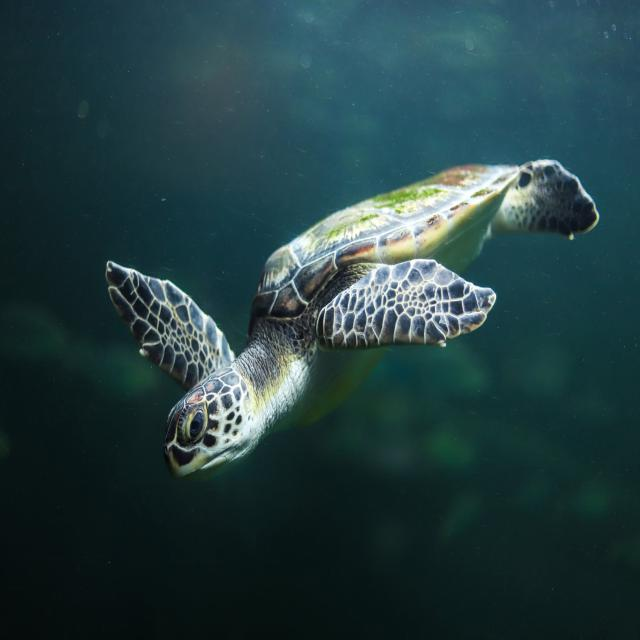turtle: (109, 207, 409, 510)
